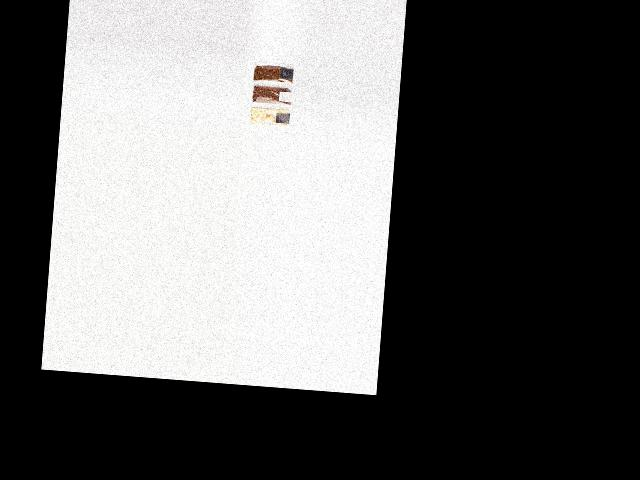chocolate: (249, 57, 293, 84)
